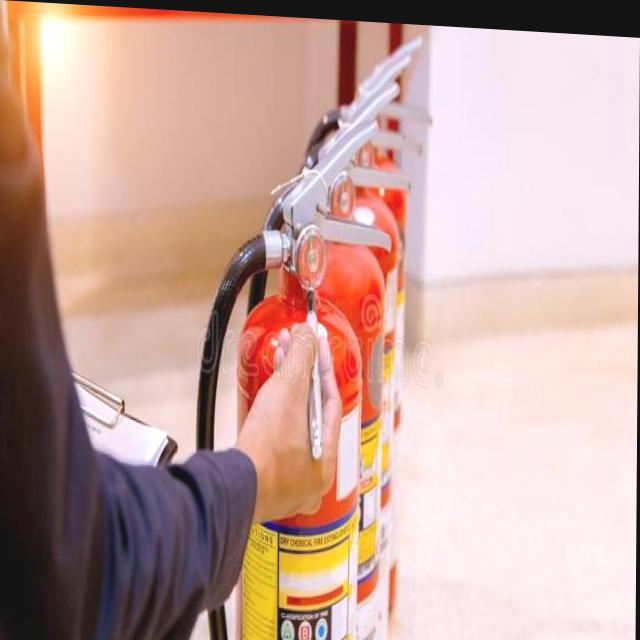FireExtinguisher: (188, 90, 401, 640), (245, 62, 415, 640)
